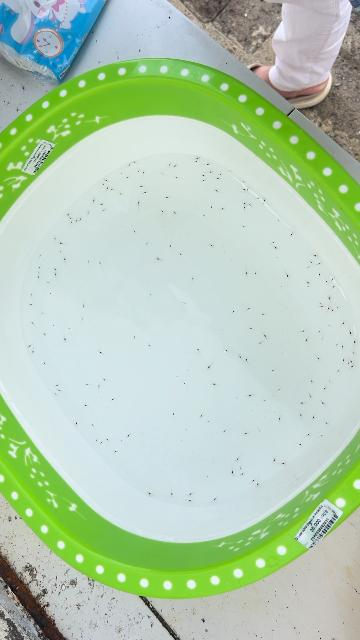benur: (298, 443, 304, 447), (98, 349, 102, 354), (82, 403, 87, 407), (242, 432, 247, 436), (206, 366, 210, 371), (309, 394, 313, 399), (351, 363, 356, 367), (350, 360, 354, 365), (304, 338, 308, 343), (341, 321, 346, 325), (287, 275, 291, 280), (155, 256, 159, 260), (79, 217, 83, 221), (214, 496, 218, 500), (252, 478, 256, 482), (255, 483, 259, 487), (235, 458, 239, 462), (325, 421, 329, 425), (278, 387, 282, 391), (237, 354, 241, 358), (223, 348, 227, 352), (320, 400, 324, 404), (317, 357, 321, 361), (333, 284, 337, 288), (290, 232, 294, 236), (272, 240, 276, 244), (187, 493, 192, 496), (240, 472, 245, 475), (272, 459, 275, 464), (323, 387, 326, 392), (349, 331, 352, 336), (144, 190, 148, 193), (104, 179, 108, 182), (102, 182, 105, 186), (169, 245, 172, 249), (180, 253, 183, 257), (101, 202, 105, 205), (93, 198, 96, 202), (87, 210, 90, 214), (76, 218, 79, 222), (70, 220, 73, 224), (58, 241, 62, 244), (63, 257, 66, 261), (31, 321, 34, 325), (63, 336, 66, 340), (43, 332, 46, 336), (55, 384, 59, 387), (105, 438, 109, 441), (147, 491, 151, 494), (188, 499, 192, 502), (231, 471, 234, 475), (258, 428, 261, 432), (282, 462, 286, 465), (307, 432, 311, 435), (311, 416, 314, 420), (300, 414, 303, 418), (278, 416, 281, 420), (183, 381, 186, 385), (245, 357, 248, 361), (197, 347, 200, 351), (248, 327, 252, 330), (247, 307, 251, 310), (311, 380, 314, 384), (353, 339, 356, 343), (341, 345, 344, 349), (336, 342, 339, 346), (302, 329, 306, 332), (328, 305, 331, 309), (327, 296, 330, 300), (328, 295, 331, 299), (325, 280, 328, 284), (314, 255, 318, 258), (245, 272, 248, 276), (149, 293, 152, 297), (192, 276, 195, 280), (210, 245, 214, 248), (243, 205, 246, 209), (221, 207, 225, 210), (243, 203, 247, 206), (248, 202, 251, 206), (262, 197, 265, 201), (214, 189, 218, 192), (174, 164, 178, 167), (164, 196, 168, 199), (172, 211, 176, 214), (32, 350, 34, 355), (98, 384, 100, 389), (247, 395, 252, 397), (128, 163, 131, 166), (138, 169, 141, 172), (125, 176, 128, 179), (69, 217, 72, 220), (37, 275, 40, 278), (49, 292, 52, 295), (81, 318, 84, 321), (68, 327, 71, 330), (28, 345, 31, 348), (103, 379, 106, 382), (57, 388, 60, 391), (54, 392, 57, 395), (127, 434, 130, 437), (239, 466, 242, 469), (112, 397, 115, 400), (199, 415, 202, 418), (320, 433, 323, 436), (212, 382, 215, 385), (264, 335, 267, 338), (232, 310, 235, 313), (147, 343, 150, 346), (337, 369, 340, 372), (352, 352, 355, 355), (328, 324, 331, 327), (332, 310, 335, 313), (319, 302, 322, 305), (332, 277, 335, 280), (307, 282, 310, 285), (306, 285, 309, 288), (318, 262, 321, 265), (307, 265, 310, 268), (242, 225, 245, 228), (242, 181, 245, 184), (210, 171, 213, 174), (169, 163, 172, 166), (176, 177, 179, 180), (161, 210, 164, 213), (275, 247, 278, 250), (132, 161, 136, 163), (118, 193, 122, 195), (138, 200, 140, 204), (103, 209, 107, 211), (39, 254, 41, 258), (54, 272, 56, 276), (31, 293, 33, 297), (29, 303, 33, 305), (40, 312, 44, 314), (76, 422, 78, 426), (99, 442, 103, 444), (171, 493, 173, 497), (172, 413, 174, 417), (258, 342, 262, 344), (261, 313, 265, 315), (299, 402, 303, 404), (329, 380, 331, 384), (343, 357, 345, 361), (321, 337, 323, 341), (318, 272, 320, 276), (182, 302, 186, 304), (203, 214, 205, 218), (242, 189, 246, 191), (247, 187, 249, 191), (228, 171, 232, 173), (219, 174, 223, 176), (207, 163, 211, 165), (196, 157, 200, 159), (195, 160, 199, 162), (139, 185, 142, 187), (107, 186, 109, 189), (146, 242, 148, 245), (66, 214, 69, 216), (54, 237, 56, 240), (60, 250, 62, 253), (39, 266, 41, 269), (38, 271, 40, 274), (54, 267, 56, 270), (53, 324, 55, 327), (82, 305, 84, 308), (43, 362, 45, 365), (92, 424, 94, 427), (96, 438, 98, 441), (120, 439, 122, 442), (114, 451, 117, 453), (223, 430, 226, 432), (263, 400, 266, 402), (176, 376, 179, 378), (347, 362, 349, 365), (318, 330, 321, 332), (337, 306, 339, 309), (321, 305, 324, 307), (311, 262, 314, 264), (255, 272, 257, 275), (210, 206, 212, 209), (262, 202, 264, 205), (217, 178, 220, 180), (203, 175, 206, 177), (203, 179, 206, 181), (161, 173, 164, 175), (277, 219, 280, 221), (99, 262, 101, 264), (46, 282, 50, 283), (86, 383, 88, 385), (208, 420, 210, 422), (236, 397, 238, 399), (257, 197, 259, 199), (243, 191, 245, 193), (143, 171, 144, 174), (271, 370, 274, 371), (121, 172, 122, 174), (111, 189, 113, 190), (134, 231, 135, 233), (88, 260, 89, 262), (134, 336, 135, 338)
